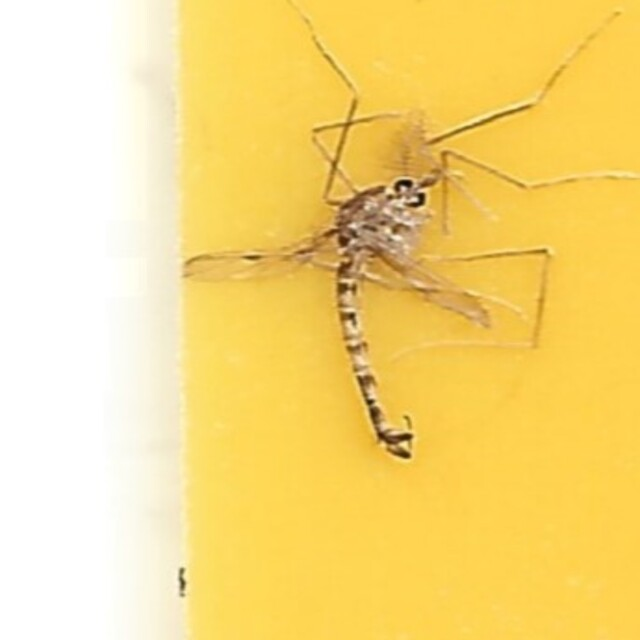Nematocera: (186, 163, 454, 477)
